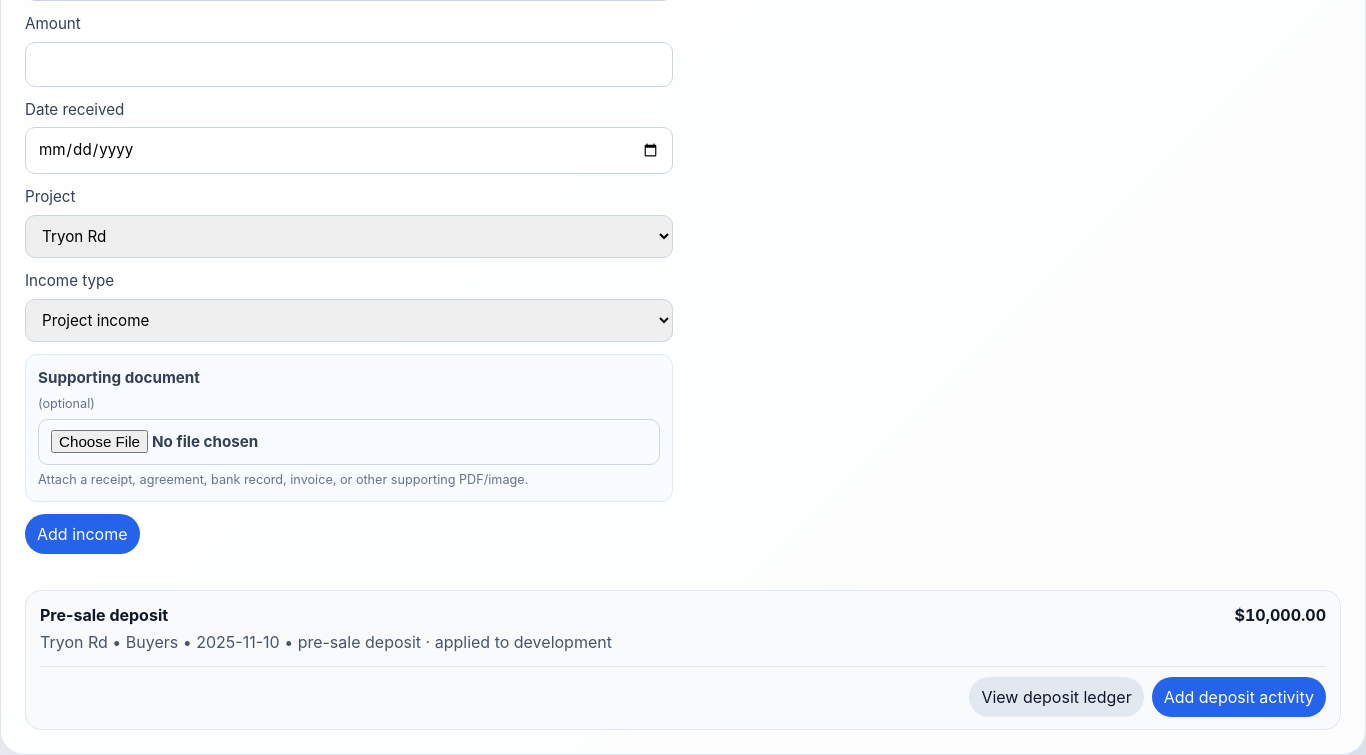
Test: IncomeSection › shows a pending check as a refund payable while removing it from the buyer deposit balance
(page scrolled)
Click the button "View deposit ledger". click: (1057, 697)
box: x1=969 y1=677 x2=1144 y2=717
(page scrolled)
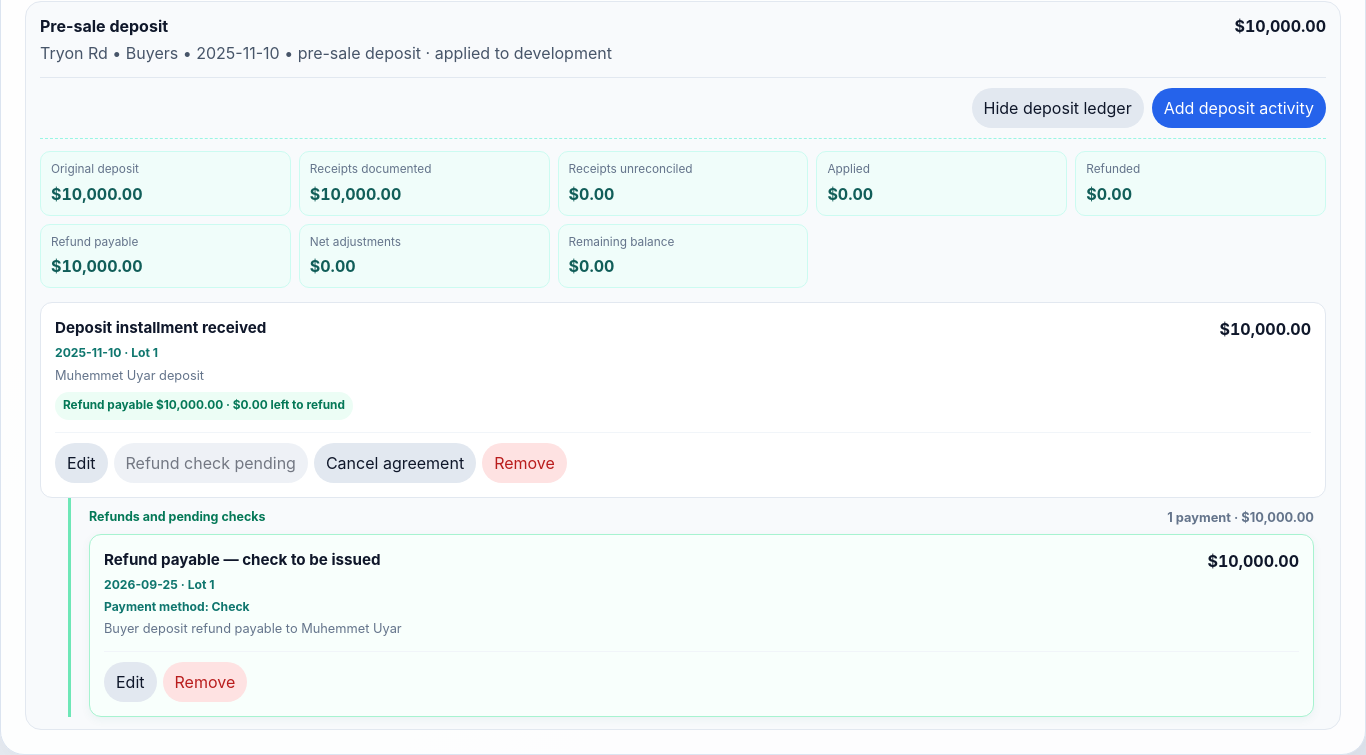
Expected: the text "Refund payable — check to be issued" is shown, x1=104 y1=550 x2=381 y2=569
Expected: the text "Payment method: Check" is shown, x1=104 y1=599 x2=250 y2=614
Expected: the button with aria-label "Add refund payment for Muhemmet Uyar deposit" is disabled, x1=114 y1=443 x2=308 y2=483
